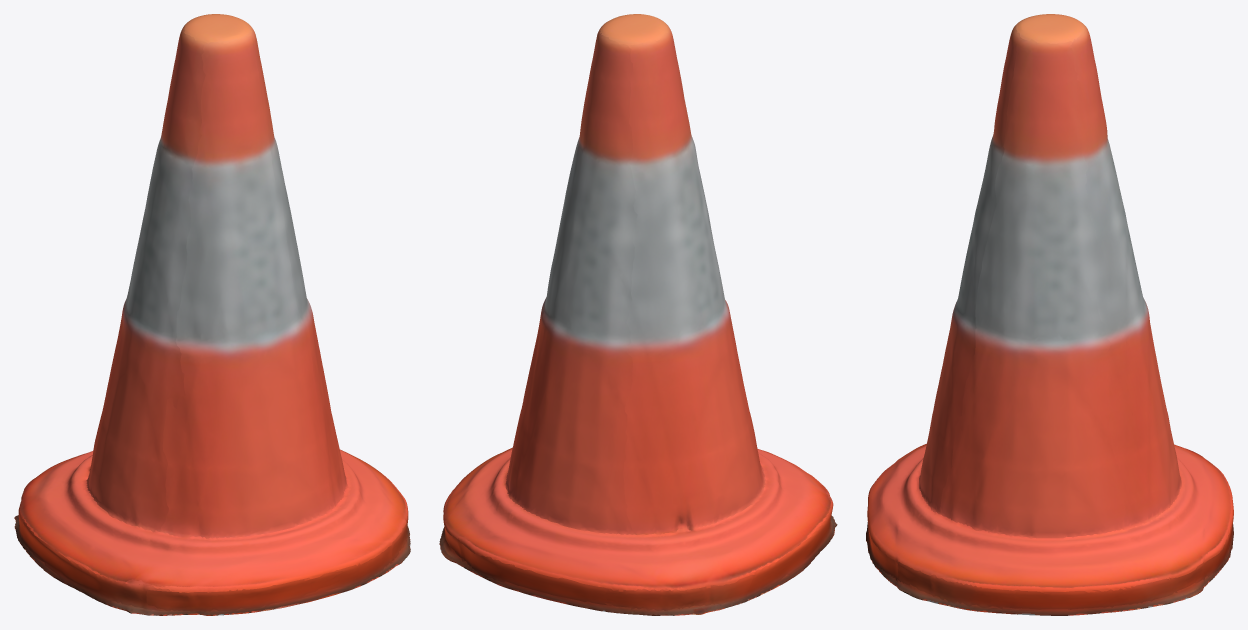
File: traficcone.fbx
3 renders of one model, left to right at view 1: azimuth 30°, elevation 25°; view 2: azimuth 150°, elevation 25°; view 3: azimuth 270°, elevation 25°, orthographic.
Parts seen in each view (by area): view 1: tmppcbdeezp.ply; view 2: tmppcbdeezp.ply; view 3: tmppcbdeezp.ply.
Part boxes in pixels (<box>): tmppcbdeezp.ply: <box>14,14,410,615</box>; tmppcbdeezp.ply: <box>439,14,837,615</box>; tmppcbdeezp.ply: <box>866,14,1233,615</box>.
Size of the model in its own units: 66.39 by 98.88 by 64.2.
Materials: 1 (1 with a texture image).
